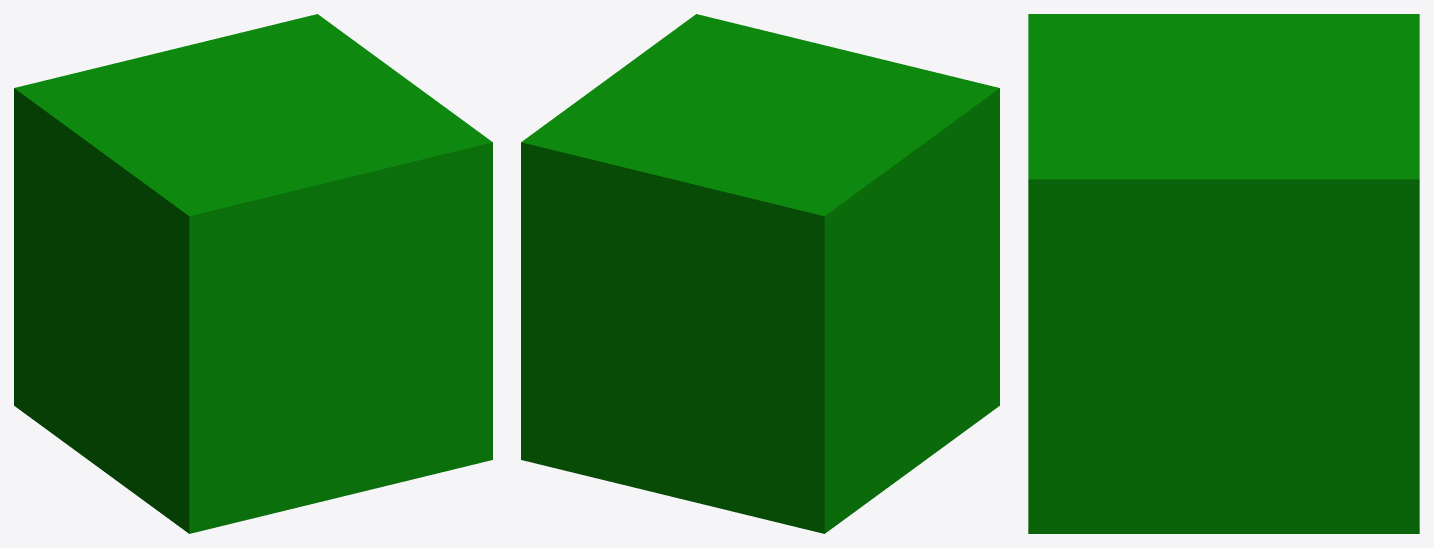
File: SquareGrass.fbx
3 renders of one model, left to right at view 1: azimuth 30°, elevation 25°; view 2: azimuth 150°, elevation 25°; view 3: azimuth 270°, elevation 25°, orthographic. The views are drawn at different scales.
Visible parts, largest first — view 1: Tile_Center; view 2: Tile_Center; view 3: Tile_Center.
Part boxes in pixels (box(x1,y1,x2,y2)): Tile_Center: box(14, 14, 492, 533); Tile_Center: box(521, 14, 999, 533); Tile_Center: box(1028, 14, 1419, 533).
Bounding box in the file's own units: 200 × 200 × 200.
